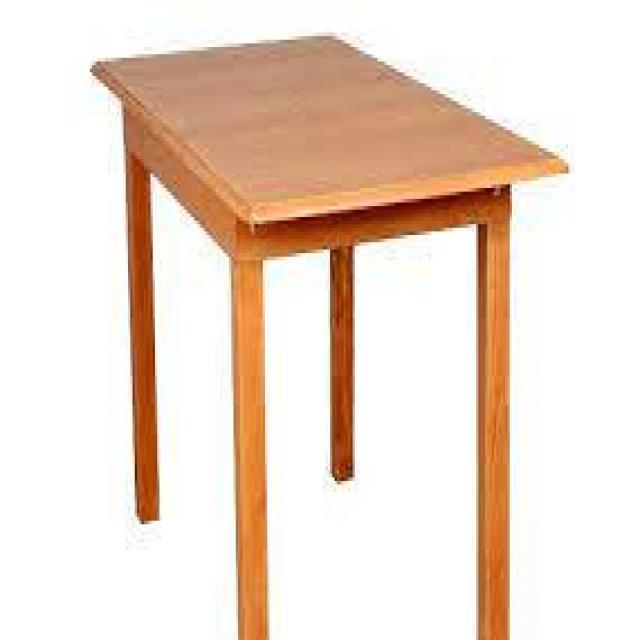table: (75, 5, 574, 588)
